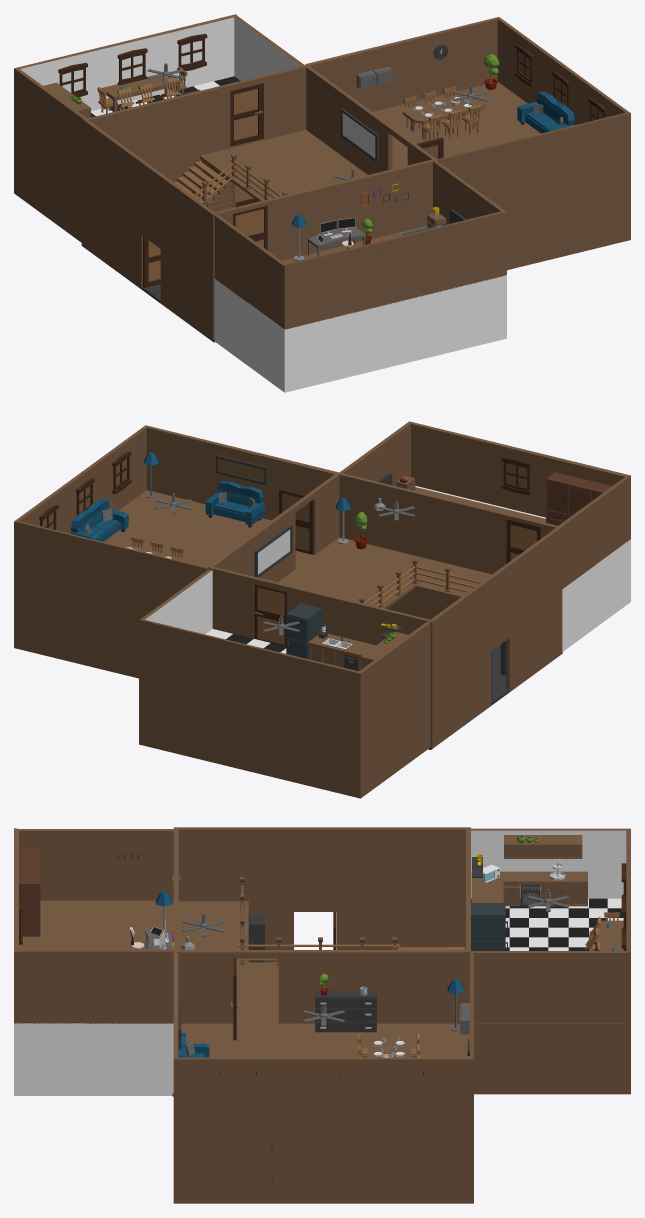
File: Level_04.fbx
3 renders of one model, top to bottom at view 1: azimuth 30°, elevation 25°; view 2: azimuth 150°, elevation 25°; view 3: azimuth 270°, elevation 25°, orthographic. The views are drawn at different scales.
Parts seen in each view (by area): view 1: yemek odası, oda, banyo, on_duvar, YatakOdasi, Cube.044, sag_duvar.001, sag_duvar, salon, sag_duvar.002, Mutfak, door_01.002 (+13 smaller); view 2: yemek odası, YatakOdasi, Mutfak, oda, on_duvar, Cube.044, sag_duvar, salon, sag_duvar.001, banyo, sag_duvar.002, giyinme_dolabi (+13 smaller); view 3: on_duvar, yemek odası, oda, YatakOdasi, salon, Cube.044, sag_duvar.002, banyo, Mutfak, tezgah, cekmeceler, giyinme_dolabi (+8 smaller).
Part boxes in pixels (x1=…): yemek odası: x1=305, y1=17, x2=630, y2=210; oda: x1=214, y1=160, x2=506, y2=329; banyo: x1=214, y1=275, x2=506, y2=392; on_duvar: x1=83, y1=119, x2=214, y2=340; YatakOdasi: x1=14, y1=14, x2=304, y2=181; Cube.044: x1=200, y1=82, x2=540, y2=264; sag_duvar.001: x1=83, y1=65, x2=308, y2=243; sag_duvar: x1=211, y1=159, x2=436, y2=339; salon: x1=505, y1=179, x2=630, y2=270; sag_duvar.002: x1=306, y1=65, x2=437, y2=174; Mutfak: x1=14, y1=131, x2=82, y2=242; door_01.002: x1=230, y1=83, x2=262, y2=146; yemek odası: x1=14, y1=425, x2=338, y2=618; YatakOdasi: x1=139, y1=569, x2=430, y2=736; Mutfak: x1=139, y1=682, x2=430, y2=798; oda: x1=340, y1=421, x2=630, y2=588; on_duvar: x1=430, y1=527, x2=561, y2=747; Cube.044: x1=104, y1=487, x2=545, y2=608; sag_duvar: x1=337, y1=472, x2=562, y2=653; salon: x1=14, y1=587, x2=139, y2=678; sag_duvar.001: x1=208, y1=567, x2=433, y2=748; banyo: x1=415, y1=486, x2=630, y2=651; sag_duvar.002: x1=208, y1=472, x2=339, y2=582; giyinme_dolabi: x1=546, y1=472, x2=611, y2=525; on_duvar: x1=176, y1=827, x2=469, y2=962; yemek odası: x1=173, y1=951, x2=473, y2=1135; oda: x1=14, y1=828, x2=173, y2=1023; YatakOdasi: x1=471, y1=828, x2=630, y2=1023; salon: x1=173, y1=1135, x2=473, y2=1203; Cube.044: x1=19, y1=901, x2=469, y2=1057; sag_duvar.002: x1=175, y1=950, x2=469, y2=1023; banyo: x1=14, y1=1023, x2=173, y2=1095; Mutfak: x1=474, y1=1023, x2=630, y2=1094; tezgah: x1=471, y1=871, x2=587, y2=906; cekmeceler: x1=315, y1=991, x2=376, y2=1032; giyinme_dolabi: x1=19, y1=847, x2=40, y2=936.
Bounding box in the file's own units: 10536 × 3123 × 11823.
3 materials, 2 textured.
